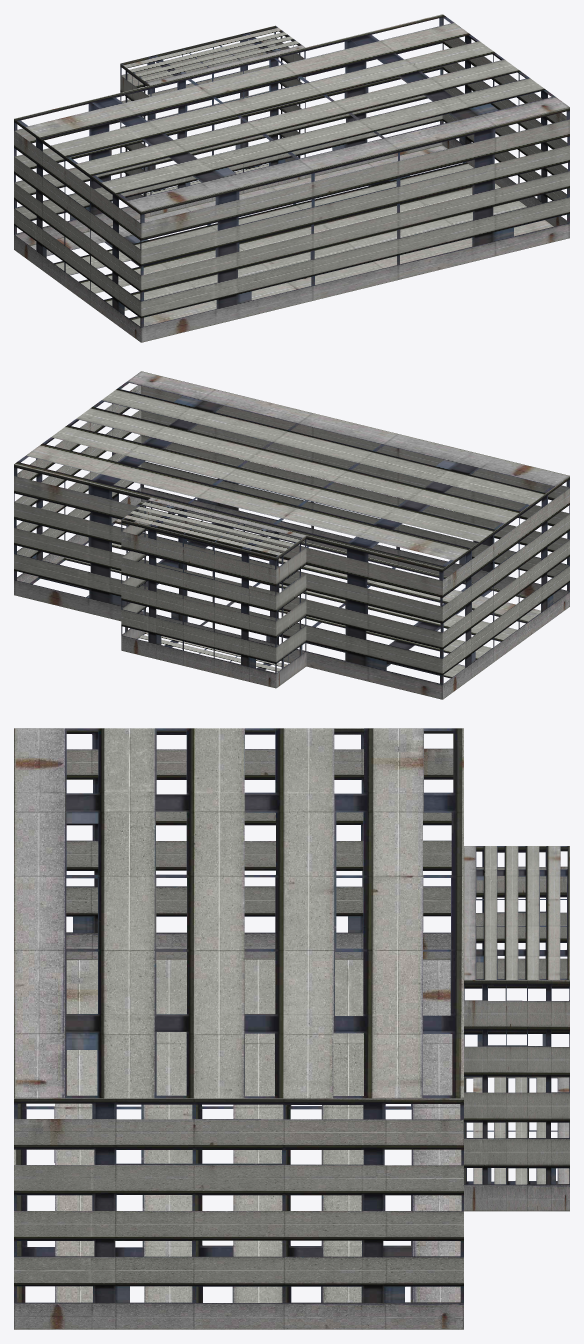
The model's file is BagSS05mid_0.fbx.
3 views of the same model, one above another, from view 1: azimuth 30°, elevation 25°; view 2: azimuth 150°, elevation 25°; view 3: azimuth 270°, elevation 25° (orthographic). The views are drawn at different scales.
Visible parts, largest first — view 1: midBoxA0, midRoof0, midBoxB0; view 2: midBoxA0, midRoof0, midBoxB0; view 3: midBoxA0, midRoof0, midBoxB0.
Part boxes in pixels (x1,y1,x2,y2): midBoxA0: [14, 17, 569, 342]; midRoof0: [14, 14, 569, 211]; midBoxB0: [120, 26, 305, 216]; midBoxA0: [14, 383, 569, 699]; midRoof0: [14, 371, 569, 568]; midBoxB0: [121, 500, 306, 688]; midBoxA0: [14, 728, 463, 1329]; midRoof0: [14, 728, 569, 1098]; midBoxB0: [464, 846, 569, 1211].
Bounding box in the file's own units: 42.13 × 12.29 × 26.75.
